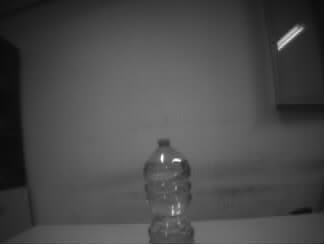Bottle: (142, 138, 196, 244)
